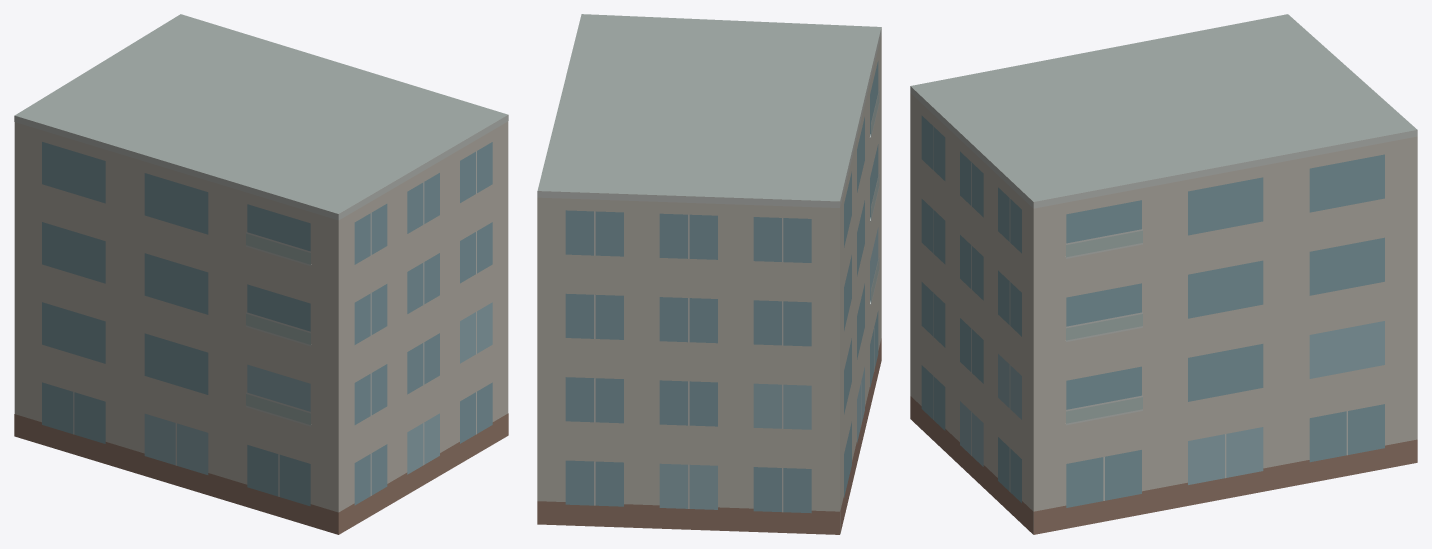
File: survey-upis-32997632.glb
The picture shows the model from 3 angles, left to right: view 1: azimuth 30°, elevation 25°; view 2: azimuth 150°, elevation 25°; view 3: azimuth 270°, elevation 25°; orthographic projection. The views are drawn at different scales.
Parts seen in each view (by area): view 1: survey-upis-32997632.tmp; view 2: survey-upis-32997632.tmp; view 3: survey-upis-32997632.tmp.
Part boxes in pixels (x1=…): survey-upis-32997632.tmp: x1=14, y1=14, x2=508, y2=534; survey-upis-32997632.tmp: x1=537, y1=14, x2=881, y2=534; survey-upis-32997632.tmp: x1=910, y1=14, x2=1417, y2=534.
Size of the model in its own units: 14.79 by 12.2 by 16.86.
